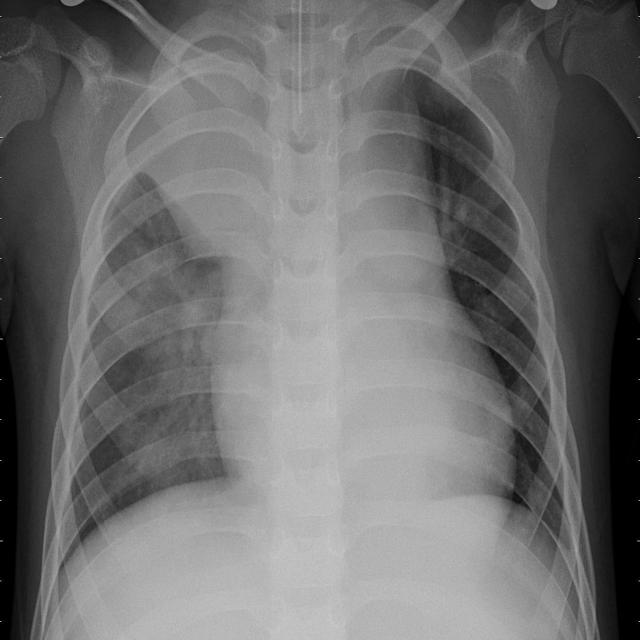high-pneumonia: (140, 43, 260, 283)
low-pneumonia: (134, 257, 222, 478)
